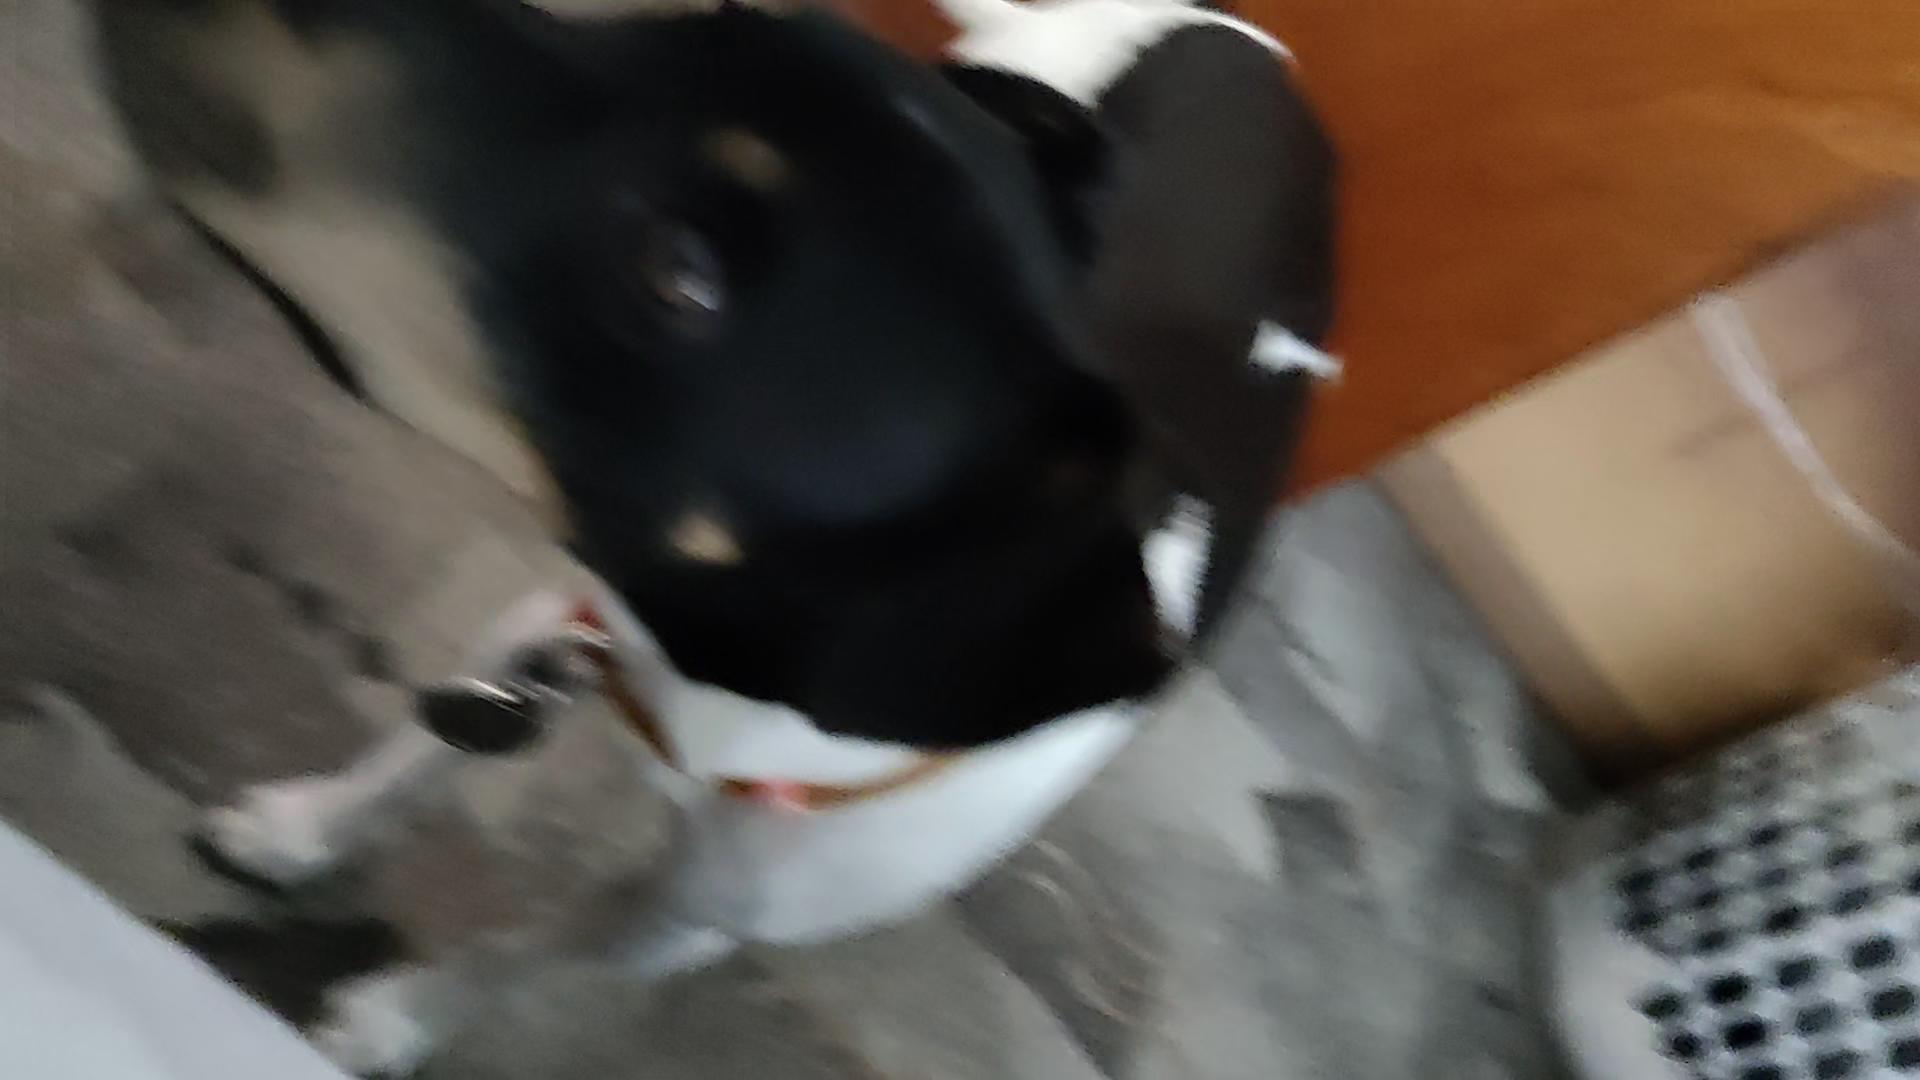Dog: (0, 0, 1371, 1080)
